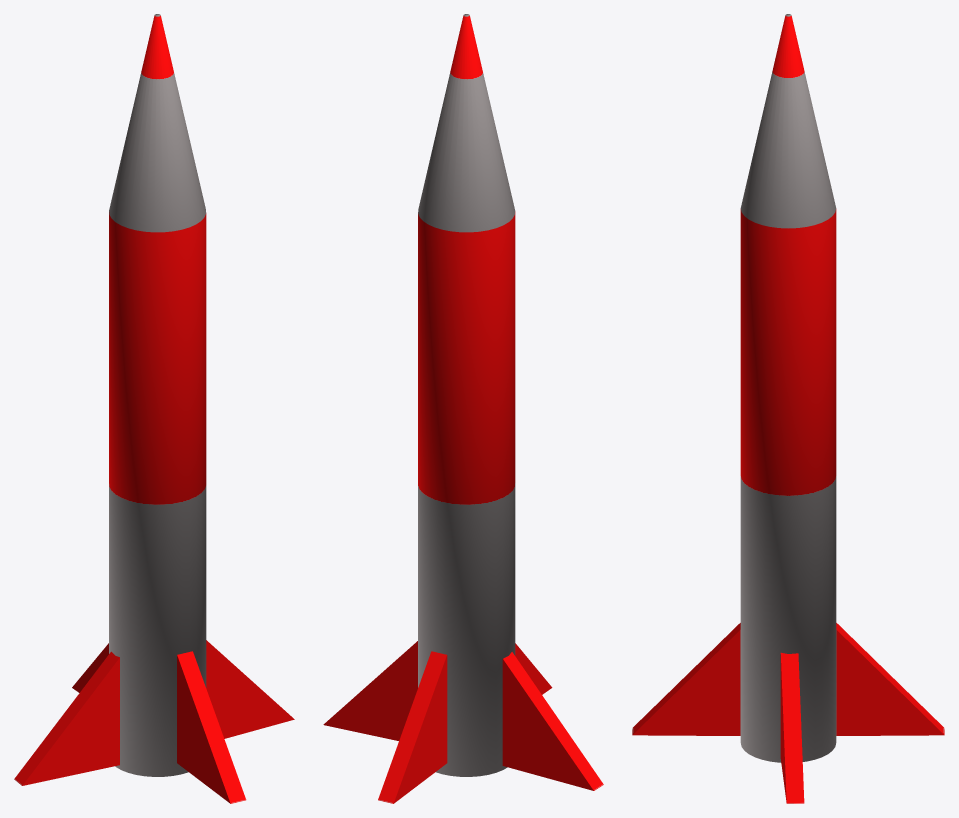
Rendered from missile.glb.
3 renders of one model, left to right at view 1: azimuth 30°, elevation 25°; view 2: azimuth 150°, elevation 25°; view 3: azimuth 270°, elevation 25°, orthographic.
Visible parts, largest first — view 1: Cylinder, Cube.001, Cube; view 2: Cylinder, Cube.001, Cube; view 3: Cylinder, Cube, Cube.001.
Part boxes in pixels (x1,y1,x2,y2): Cylinder: (109, 14, 206, 776); Cube.001: (14, 640, 294, 785); Cube: (72, 643, 246, 803); Cylinder: (418, 14, 515, 776); Cube.001: (323, 641, 603, 790); Cube: (378, 643, 552, 803); Cylinder: (740, 14, 836, 762); Cube: (632, 623, 944, 735); Cube.001: (780, 652, 804, 803).
Size of the model in its own units: 1.43 by 3.72 by 1.45.
1 material, 1 textured.
